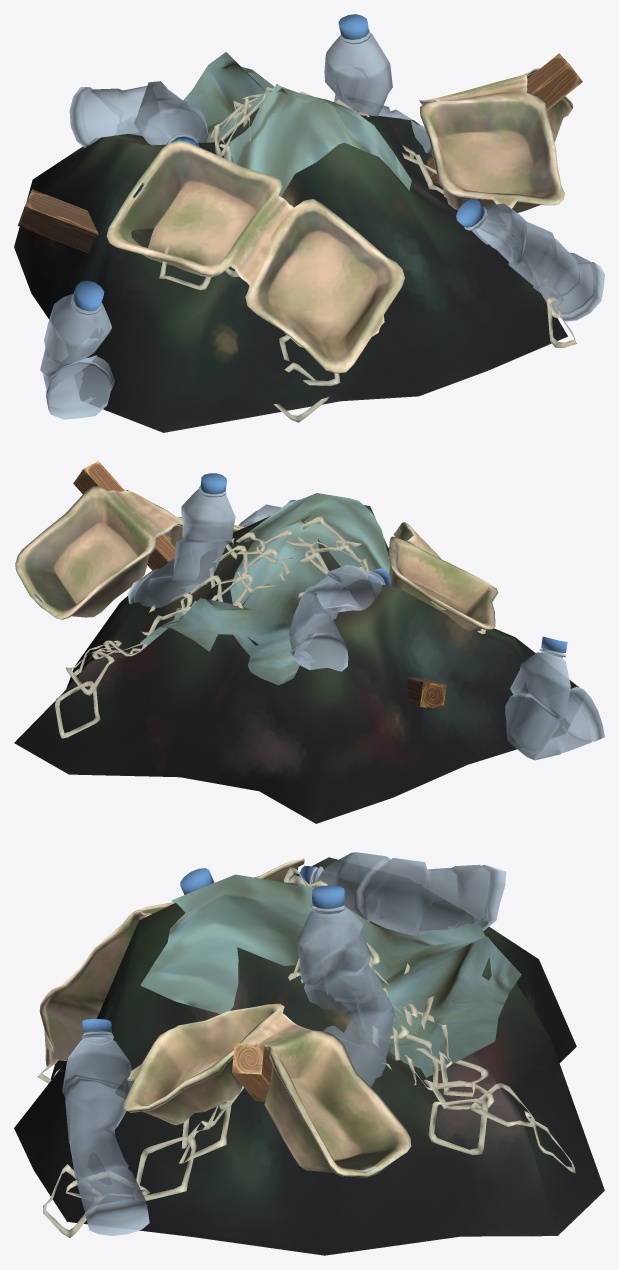
The model's file is trashpile.glb.
3 renders of one model, top to bottom at view 1: azimuth 30°, elevation 25°; view 2: azimuth 150°, elevation 25°; view 3: azimuth 270°, elevation 25°, orthographic. The views are drawn at different scales.
Parts seen in each view (by area): view 1: polySurface72, polySurface108, polySurface71, polySurface109, polySurface110, polySurface112, polySurface114, polySurface113, polySurface111, polySurface115; view 2: polySurface72, polySurface109, polySurface71, polySurface112, polySurface113, polySurface108, polySurface114, polySurface115, polySurface111, polySurface101; view 3: polySurface72, polySurface109, polySurface71, polySurface110, polySurface114, polySurface113, polySurface108, polySurface115, polySurface80, polySurface76, polySurface105, polySurface84 (+6 smaller).
Part boxes in pixels (bbox=[...]): polySurface72: bbox=[14, 88, 567, 432]; polySurface108: bbox=[106, 140, 404, 373]; polySurface71: bbox=[419, 68, 573, 212]; polySurface109: bbox=[117, 52, 411, 196]; polySurface110: bbox=[456, 199, 604, 321]; polySurface112: bbox=[40, 280, 114, 419]; polySurface114: bbox=[69, 81, 208, 147]; polySurface113: bbox=[324, 14, 432, 155]; polySurface111: bbox=[18, 189, 98, 252]; polySurface115: bbox=[426, 53, 582, 187]; polySurface72: bbox=[14, 505, 579, 823]; polySurface109: bbox=[140, 493, 390, 685]; polySurface71: bbox=[15, 486, 244, 619]; polySurface112: bbox=[505, 636, 604, 760]; polySurface113: bbox=[127, 473, 235, 608]; polySurface108: bbox=[388, 522, 498, 631]; polySurface114: bbox=[289, 565, 391, 671]; polySurface115: bbox=[73, 461, 175, 570]; polySurface111: bbox=[407, 677, 446, 709]; polySurface101: bbox=[55, 681, 100, 738]; polySurface72: bbox=[14, 857, 604, 1255]; polySurface109: bbox=[140, 874, 521, 1077]; polySurface71: bbox=[123, 1003, 411, 1177]; polySurface110: bbox=[62, 1019, 149, 1235]; polySurface114: bbox=[297, 852, 506, 935]; polySurface113: bbox=[297, 885, 394, 1086]; polySurface108: bbox=[39, 858, 304, 1066]; polySurface115: bbox=[232, 1043, 272, 1101]; polySurface80: bbox=[428, 1098, 487, 1155]; polySurface76: bbox=[133, 1136, 196, 1200]; polySurface105: bbox=[423, 1079, 494, 1109]; polySurface84: bbox=[179, 1100, 231, 1163].
Size of the model in its own units: 0.8157 by 0.3579 by 0.6356.
Materials: 6 (6 with a texture image).
